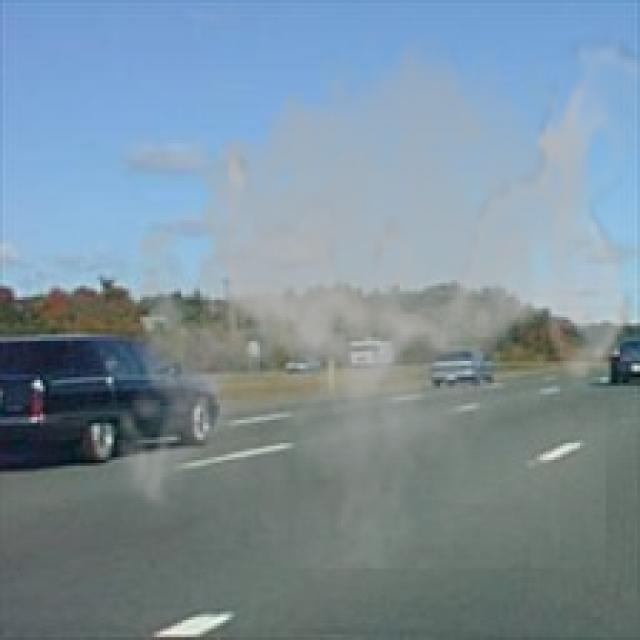Smoke: (100, 14, 637, 572)
